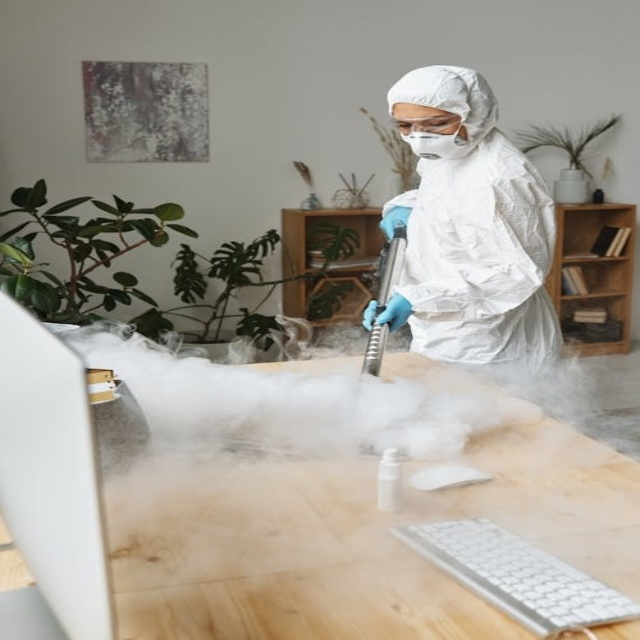Gafas: (391, 116, 466, 136)
Guantes: (367, 294, 414, 333), (379, 205, 411, 242)
Mascara: (400, 122, 471, 161)
